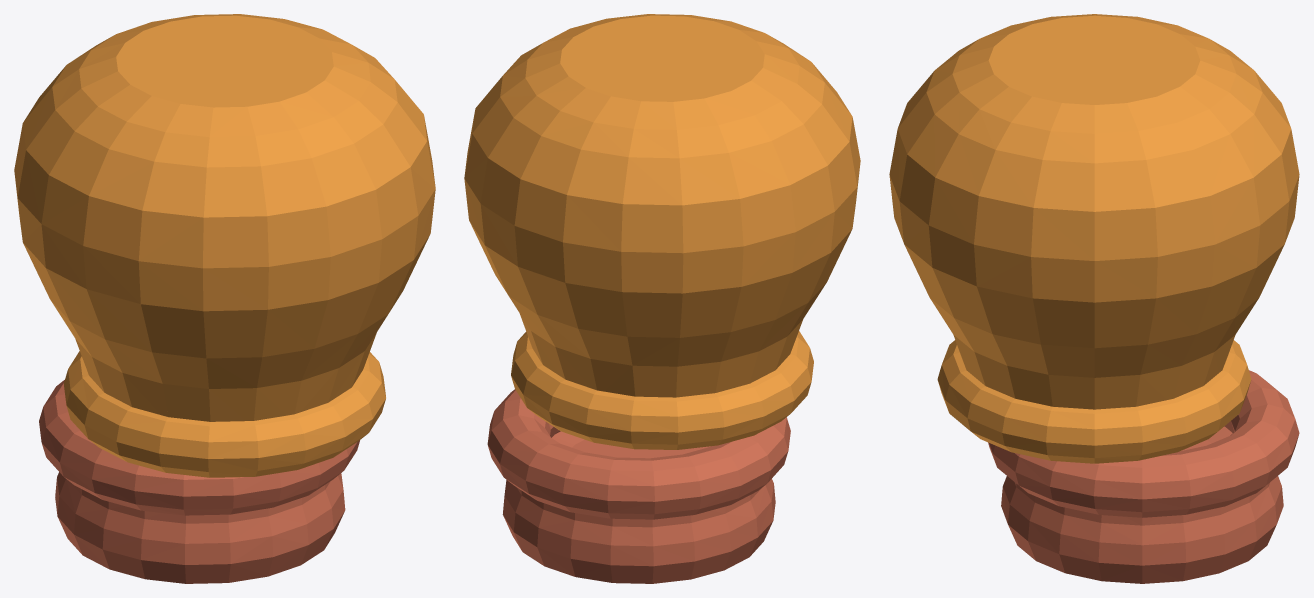
File: cannon.obj
3 renders of one model, left to right at view 1: azimuth 30°, elevation 25°; view 2: azimuth 150°, elevation 25°; view 3: azimuth 270°, elevation 25°, orthographic. The views are drawn at different scales.
Visible parts, largest first — view 1: obj_1, obj_0; view 2: obj_1, obj_0; view 3: obj_1, obj_0.
Boxes of the visible parts, bbox=[...] form: obj_1: bbox=[14, 14, 435, 477]; obj_0: bbox=[39, 380, 359, 583]; obj_1: bbox=[464, 14, 860, 449]; obj_0: bbox=[487, 389, 790, 583]; obj_1: bbox=[889, 14, 1299, 463]; obj_0: bbox=[988, 370, 1299, 583].
Size of the model in its own units: 14.5 by 18.4 by 14.5.
